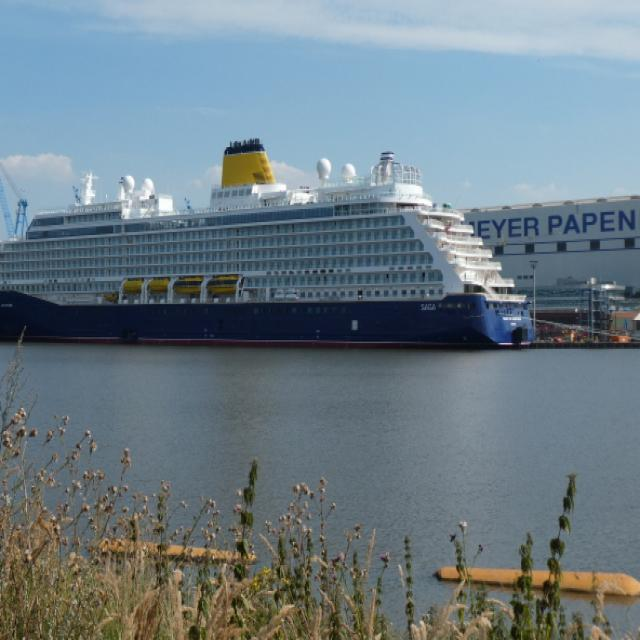cruises: (1, 132, 540, 359)
